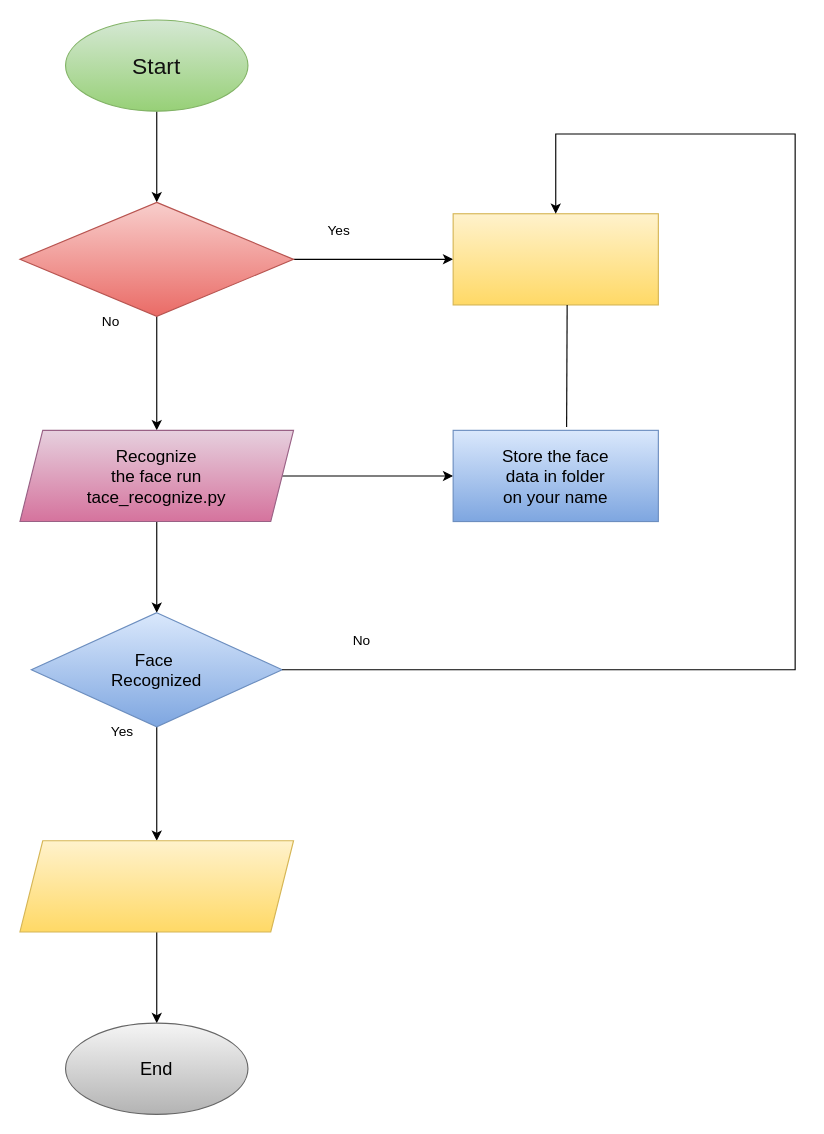
Some shapes in this 824 by 1134 pixel diagram are drawn without their labels. Here are the shapes that lost their labels. From the top down, the centre of each, then its label:
the point at 156,258: New User? run create_dataset.py
the point at 555,259: Give your photograph
the point at 156,886: Stored in csv file with Registration Number & Data .Time of Entry
